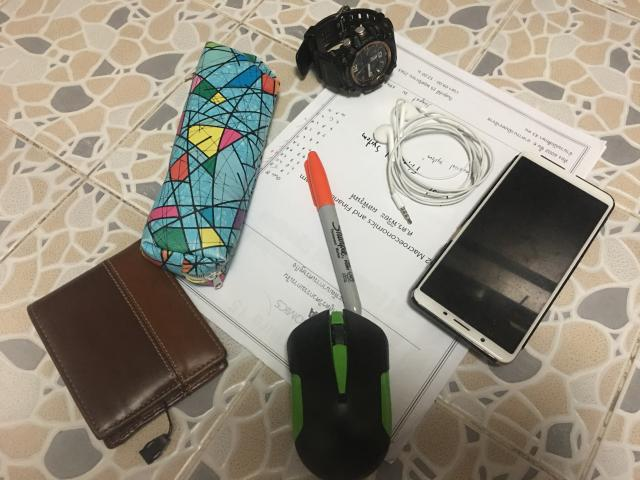Mobile phone: (412, 152, 614, 364)
Mouse: (288, 310, 391, 479)
Pen: (305, 151, 361, 315)
Wallet: (28, 240, 226, 449)
Watch: (296, 6, 396, 92)
paper: (181, 35, 605, 460)
wire: (374, 99, 494, 224)
